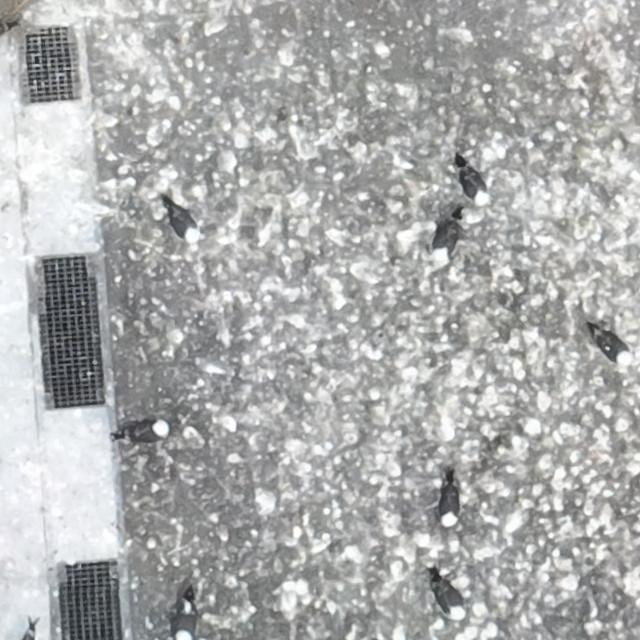umineko: (432, 213, 466, 266), (598, 330, 630, 363), (461, 171, 488, 205), (168, 210, 195, 242), (438, 585, 463, 619), (128, 421, 165, 441), (441, 486, 459, 526), (178, 606, 196, 638)
